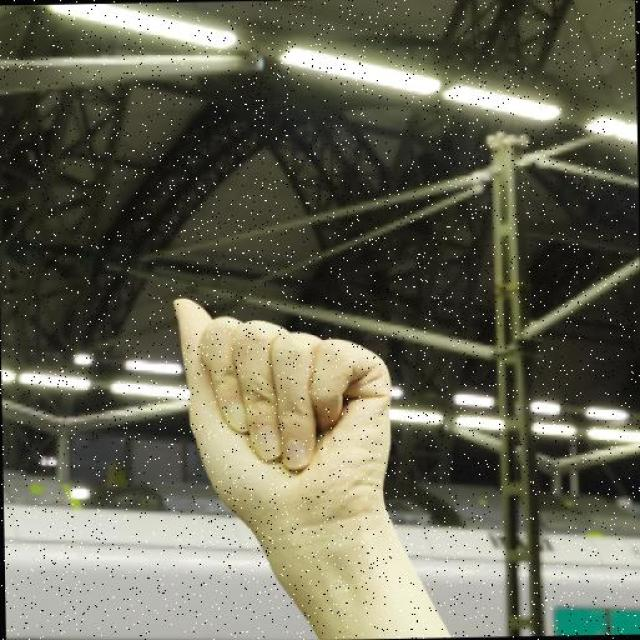A: (170, 290, 396, 538)
